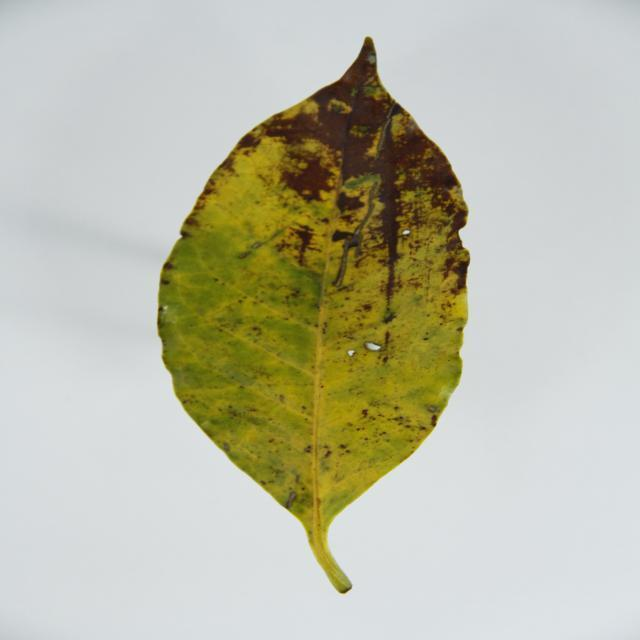DeficienciaNutricional-Potasio: (158, 38, 469, 592)
